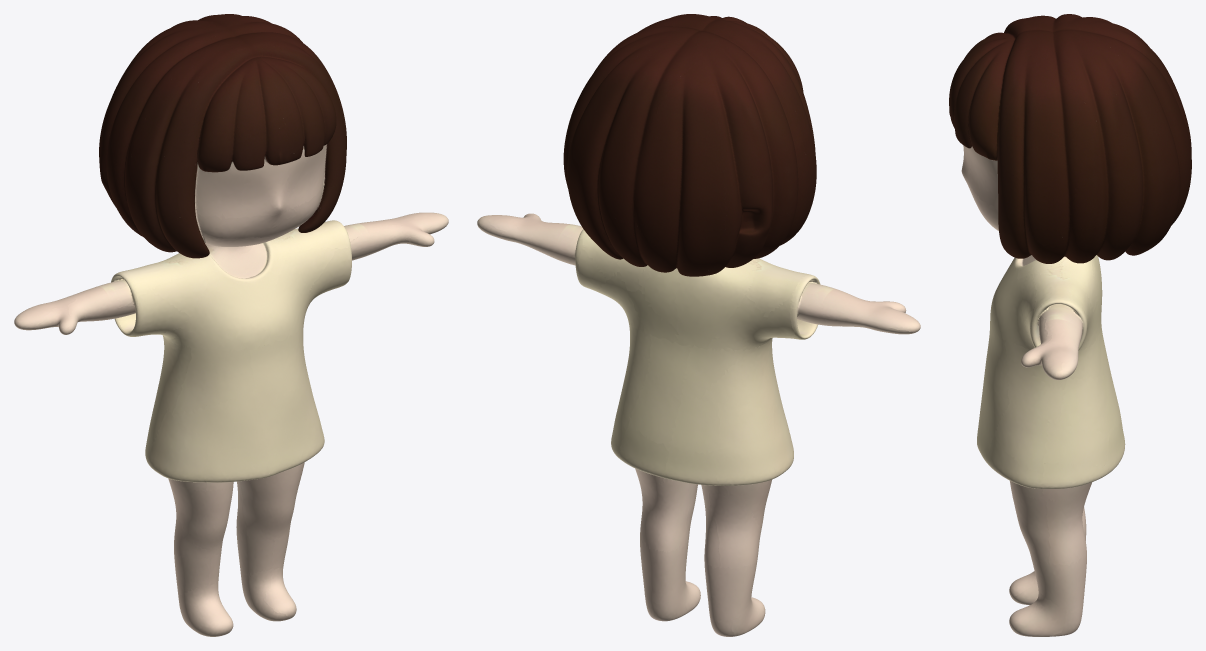
File: baked_hair_bob.glb
The picture shows the model from 3 angles, left to right: view 1: azimuth 30°, elevation 25°; view 2: azimuth 150°, elevation 25°; view 3: azimuth 270°, elevation 25°; orthographic projection. The views are drawn at different scales.
Size of the model in its own units: 1.48 by 1.9 by 0.7141.
1 material, 1 textured.
